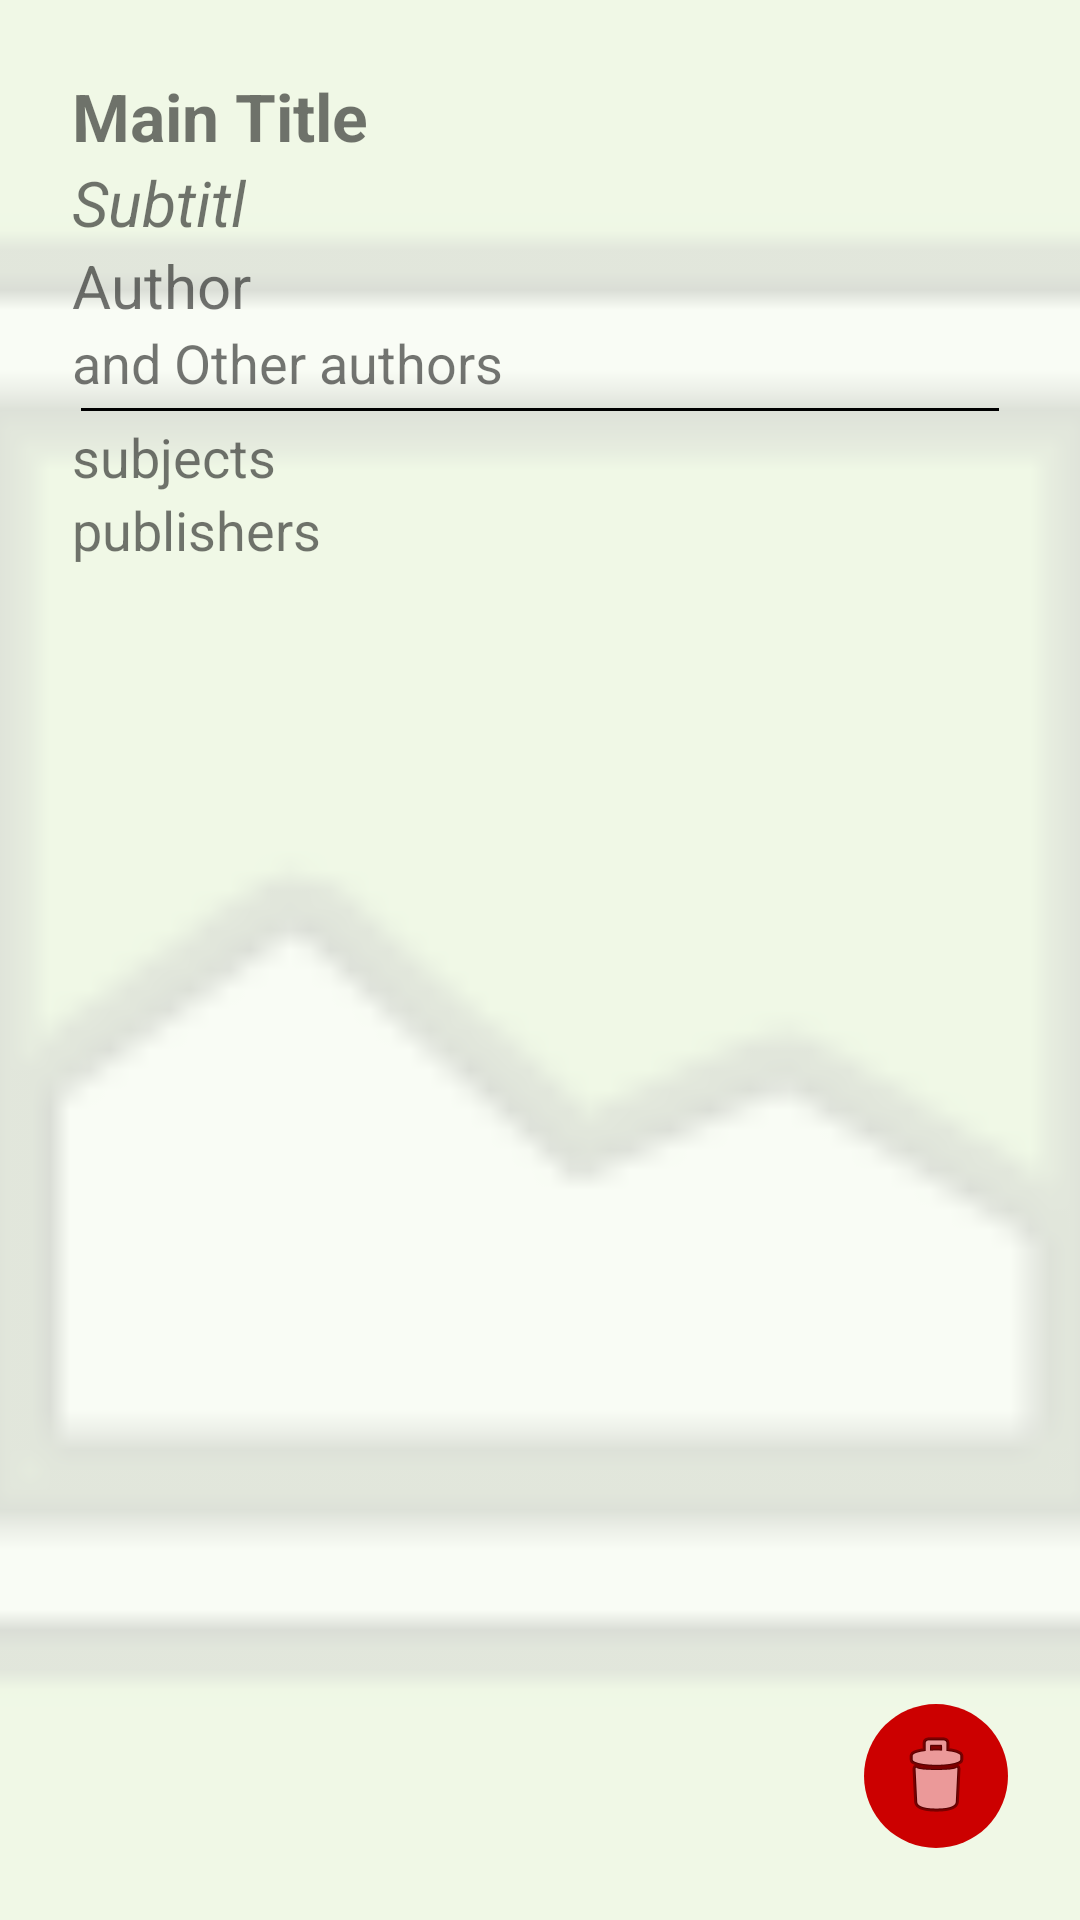

Locate icon controls on the screen. Image size 1080*1920, boxes as rect(x1, y1, x2, y2).
delete: rect(864, 1704, 1008, 1848)
